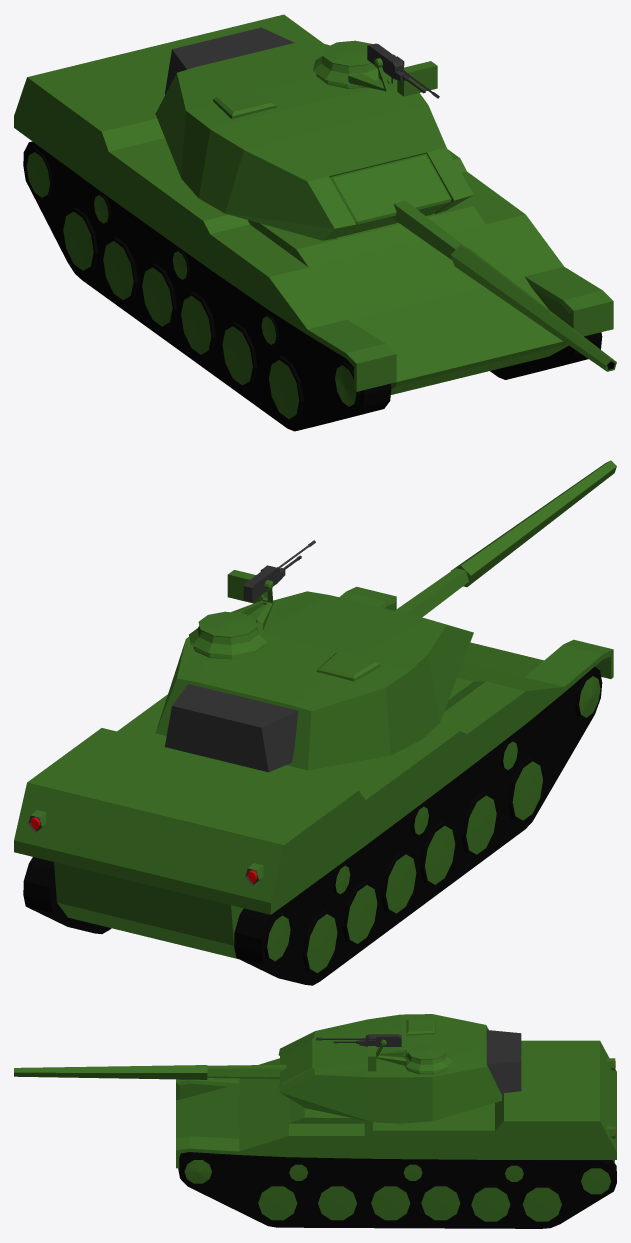
3 views of the same model, one above another, from view 1: azimuth 30°, elevation 25°; view 2: azimuth 150°, elevation 25°; view 3: azimuth 270°, elevation 25° (orthographic). The views are drawn at different scales.
Visible parts, largest first — view 1: Plane.012, Plane.013, Cylinder.004, Cube.012, Cube.013, Plane.014, Cube.014; view 2: Plane.012, Plane.013, Cylinder.004, Cube.012, Cube.013, Plane.014; view 3: Plane.012, Cylinder.004, Plane.013, Cube.012, Cube.013, Plane.014, Cube.014.
Boxes of the visible parts, x1,y1,x2,y2 form: Plane.012: [14, 14, 613, 394]; Plane.013: [155, 27, 473, 240]; Cylinder.004: [23, 141, 602, 431]; Cube.012: [329, 153, 616, 371]; Cube.013: [367, 43, 439, 98]; Plane.014: [322, 40, 372, 66]; Cube.014: [348, 54, 397, 91]; Plane.012: [14, 586, 613, 959]; Plane.013: [155, 591, 473, 772]; Cylinder.004: [23, 666, 602, 985]; Cube.012: [338, 460, 616, 617]; Cube.013: [227, 540, 315, 603]; Plane.014: [198, 611, 257, 637]; Plane.012: [176, 1040, 616, 1168]; Cylinder.004: [178, 1152, 616, 1228]; Plane.013: [278, 1014, 521, 1123]; Cube.012: [14, 1038, 313, 1084]; Cube.013: [316, 1034, 401, 1071]; Plane.014: [407, 1043, 446, 1059]; Cube.014: [376, 1039, 406, 1065].
Size of the model in its own units: 302 by 306 by 953.
